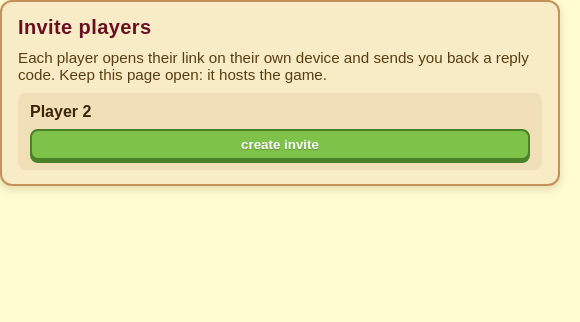
Test: PeerInvites › drops the invite when the connection fails and lets to make a new one
Click the button "create invite" at [280, 144], box [30, 129, 530, 160]
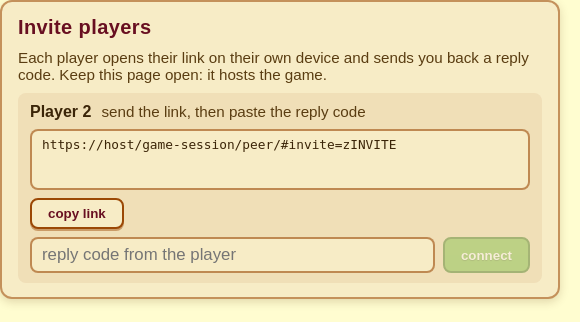
Type "zWRONG" into the field labelled "reply code" at [232, 255], box [30, 237, 435, 273]
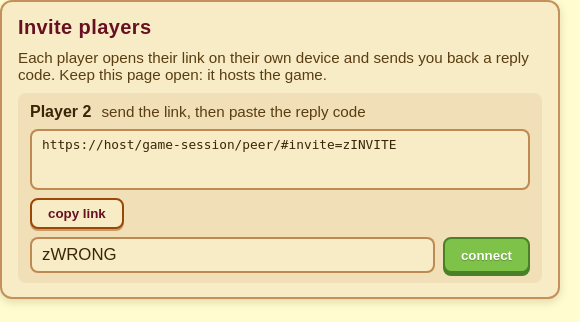
Click the button "connect" at [486, 255], box [443, 237, 530, 273]
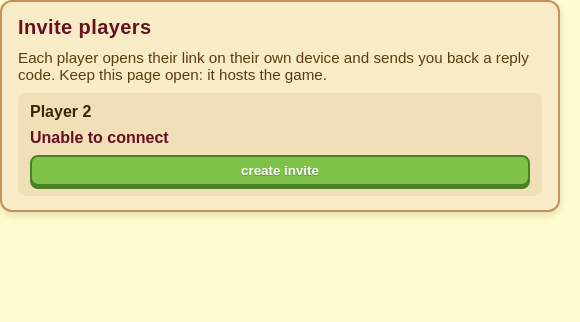
Expected: the text "Unable to connect" is shown, [30, 129, 169, 146]
Expected: the button "create invite" is shown, [30, 155, 530, 186]
